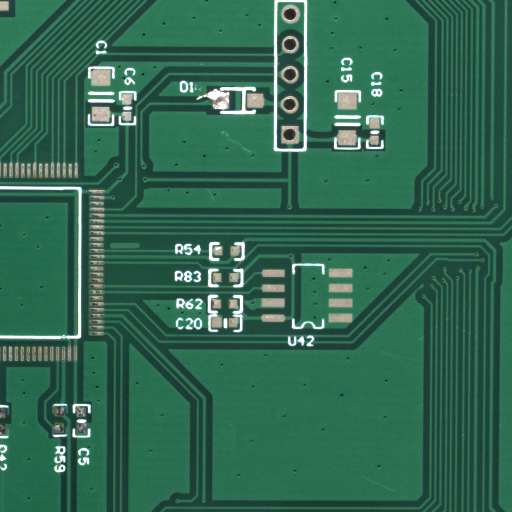Spurious_copper: (125, 245, 157, 252)
